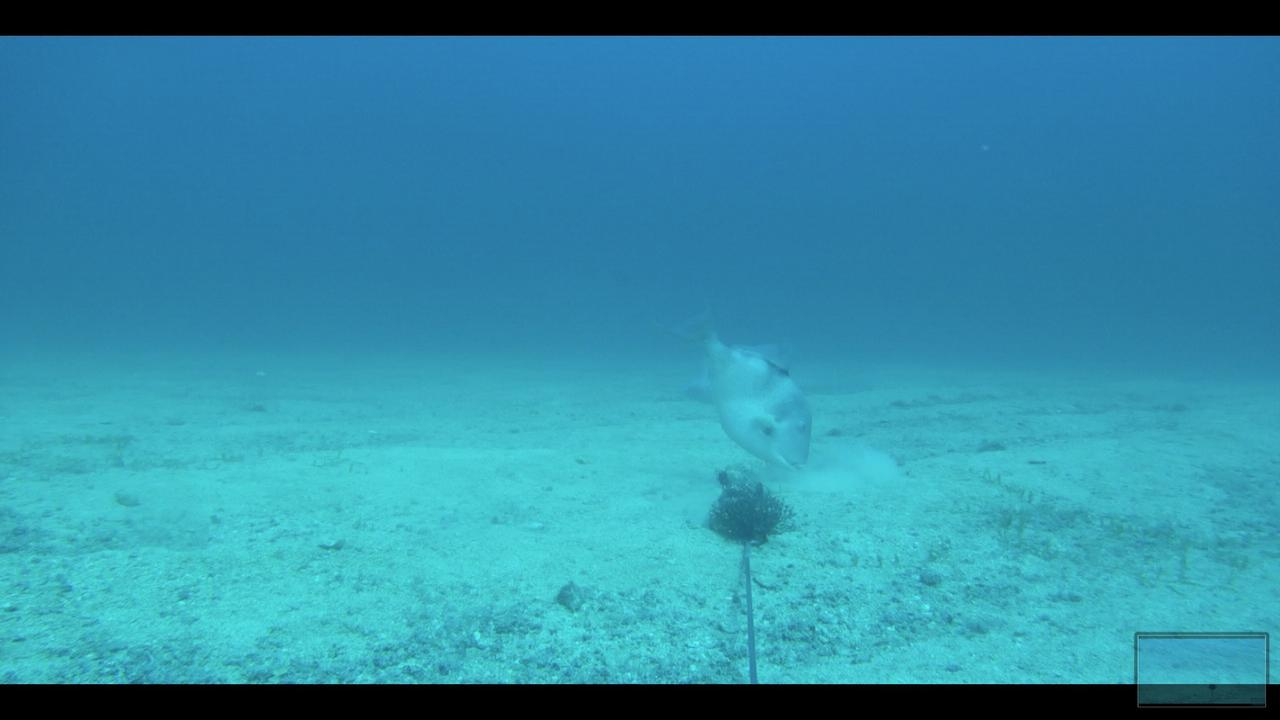balistes: (665, 292, 820, 479)
